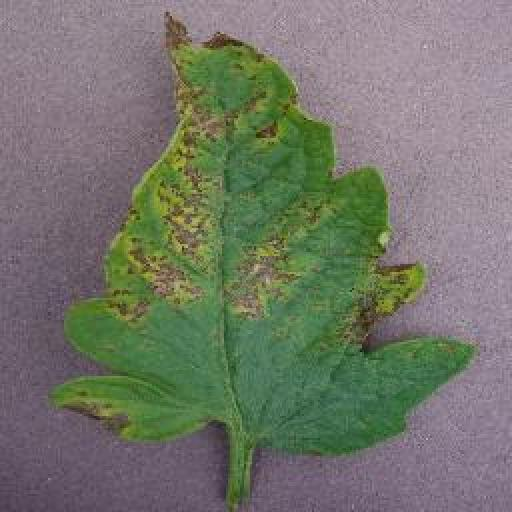Septoria: (51, 8, 482, 457)
